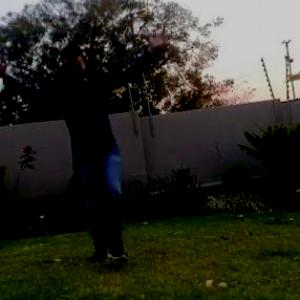takeoff: (1, 29, 164, 255)
